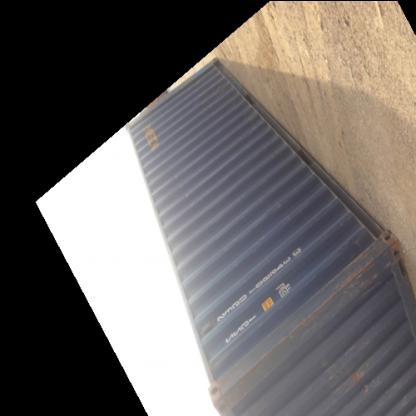Damage: (326, 240, 388, 300), (320, 353, 372, 399), (216, 352, 262, 400), (276, 310, 322, 342), (272, 182, 294, 230)
